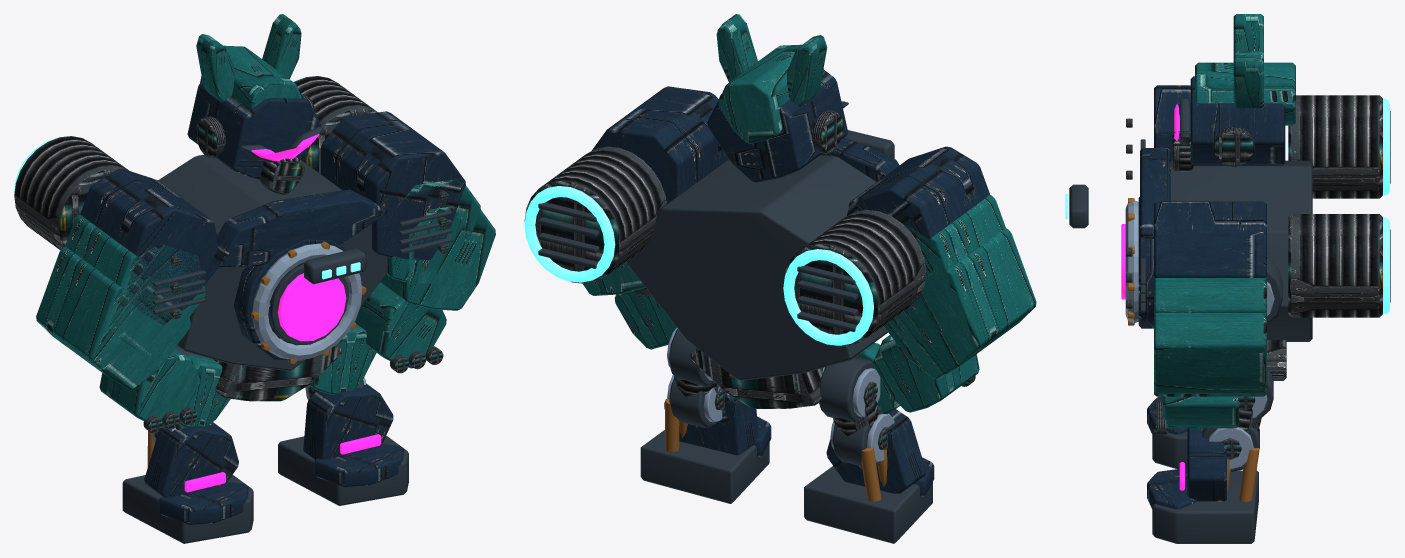
The model's file is sector_04_2.glb.
3 views of the same model, side by side, from view 1: azimuth 30°, elevation 25°; view 2: azimuth 150°, elevation 25°; view 3: azimuth 270°, elevation 25° (orthographic). The views are drawn at different scales.
Visible parts, largest first — view 1: Upper chest plating, Navy crown, Face guard, Reinforced heavy torso, Greave armor, Greave armor.001, Reactor lens, Reactor concentric ring, Servo housing.001, Servo housing.004, Tapered thigh shield.001, Tapered thigh shield; view 2: Reinforced heavy torso, Navy crown, Face guard, Upper chest plating, Servo housing.001, Servo housing.004, Pressure seal, Greave armor, Greave armor.001, Bearing ring.002, Hub.002, Calf piston (+4 smaller); view 3: Face guard, Navy crown, Upper chest plating, Reinforced heavy torso, Servo housing.004, Greave armor.001, Reactor concentric ring, Pressure seal, Servo housing.001, Bearing ring.008, Hub.008, Calf piston.002 (+2 smaller).
Part boxes in pixels (x1,y1,x2,y2): Upper chest plating: (80,81,465,360); Navy crown: (36,14,495,428); Face guard: (14,76,448,433); Reinforced heavy torso: (153,126,452,370); Greave armor: (144,422,248,525); Greave armor.001: (303,383,403,487); Reactor lens: (251,134,346,341); Reactor concentric ring: (252,243,361,359); Servo housing.001: (122,345,253,543); Servo housing.004: (278,380,408,505); Tapered thigh shield.001: (309,323,376,394); Tapered thigh shield: (179,355,230,427); Reinforced heavy torso: (538,102,906,380); Navy crown: (583,14,1036,412); Face guard: (524,94,975,408); Upper chest plating: (591,70,990,308); Servo housing.001: (804,356,932,543); Servo housing.004: (640,328,769,503); Pressure seal: (524,186,873,345); Greave armor: (826,409,934,496); Greave armor.001: (664,392,771,456); Bearing ring.002: (818,367,894,462); Hub.002: (833,382,890,449); Calf piston: (861,447,887,501); Face guard: (1126,95,1382,434); Navy crown: (1154,14,1295,428); Upper chest plating: (1138,76,1285,328); Reinforced heavy torso: (1069,98,1390,341); Servo housing.004: (1152,367,1273,543); Greave armor.001: (1147,428,1226,509); Reactor concentric ring: (1125,200,1274,323); Pressure seal: (1065,98,1389,314); Servo housing.001: (1152,429,1187,468); Bearing ring.008: (1209,395,1267,469); Hub.008: (1221,396,1261,459); Calf piston.002: (1216,448,1259,501).
Bounding box in the file's own units: 1.52 × 1.64 × 1.06.
Materials: 8 (3 with a texture image).
